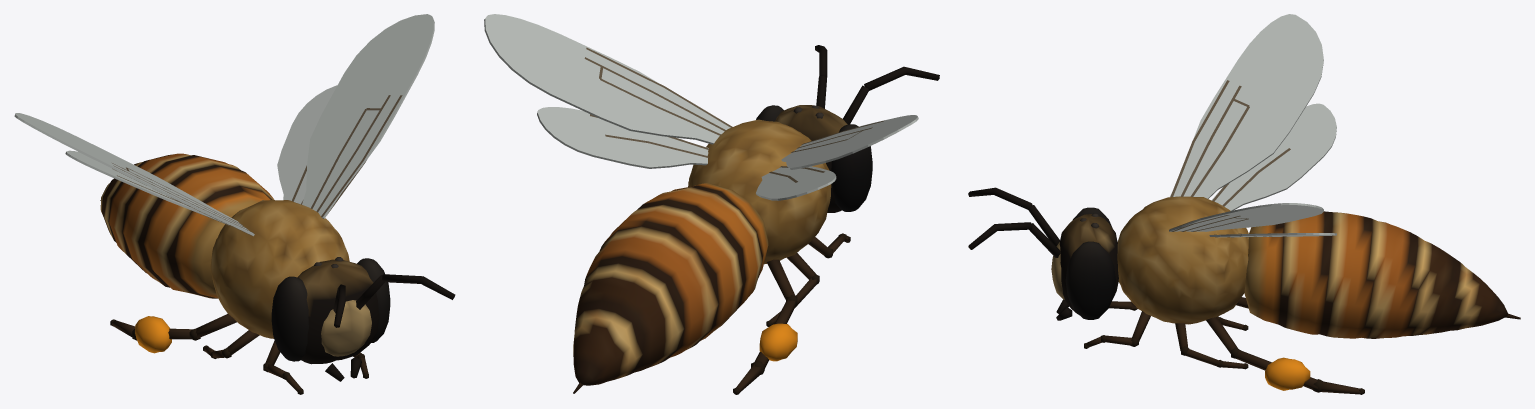
Rendered from HoneyBee.fbx.
3 views of the same model, side by side, from view 1: azimuth 30°, elevation 25°; view 2: azimuth 150°, elevation 25°; view 3: azimuth 270°, elevation 25° (orthographic). The views are drawn at different scales.
Parts seen in each view (by area): view 1: HoneyBee; view 2: HoneyBee; view 3: HoneyBee.
Boxes of the visible parts, <box> form: HoneyBee: <box>14,14,455,394</box>; HoneyBee: <box>484,14,939,394</box>; HoneyBee: <box>968,14,1520,394</box>.
Size of the model in its own units: 0.8891 by 0.5538 by 1.09.
